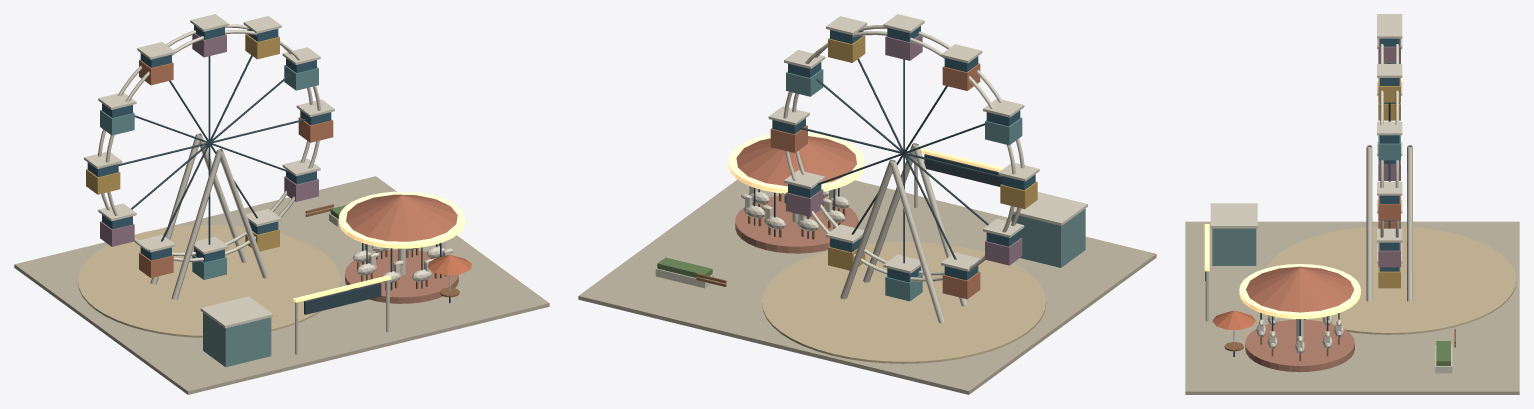
Rendered from amusement_lod.glb.
The picture shows the model from 3 angles, left to right: view 1: azimuth 30°, elevation 25°; view 2: azimuth 150°, elevation 25°; view 3: azimuth 270°, elevation 25°; orthographic projection. The views are drawn at different scales.
Parts seen in each view (by area): view 1: amusement_Site_Paving, amusement_Wheel_Plaza, amusement_Carousel_Canopy, amusement_Carousel_Base, amusement_Building_Volume, amusement_Carousel_Fascia, amusement_Wheel_Rim.001, amusement_Roof_Coping, amusement_Sign_Backplate, amusement_Wheel_A_Frame.002, amusement_Wheel_Rim, amusement_Wheel_A_Frame.003 (+16 smaller); view 2: amusement_Site_Paving, amusement_Wheel_Plaza, amusement_Carousel_Canopy, amusement_Carousel_Base, amusement_Building_Volume, amusement_Carousel_Fascia, amusement_Wheel_Rim, amusement_Roof_Coping, amusement_Wheel_A_Frame, amusement_Wheel_Rim.001, amusement_Sign_Backplate, amusement_Wheel_A_Frame.001 (+18 smaller); view 3: amusement_Site_Paving, amusement_Wheel_Plaza, amusement_Carousel_Base, amusement_Carousel_Canopy, amusement_Building_Volume, amusement_Carousel_Fascia, amusement_Roof_Coping, amusement_Wheel_A_Frame.003, amusement_Wheel_A_Frame.001, amusement_Cafe_Umbrella, amusement_Gondola_Body.001, amusement_Gondola_Body.011 (+12 smaller).
Part boxes in pixels (x1,y1,x2,y2): amusement_Site_Paving: [14, 176, 549, 394]; amusement_Wheel_Plaza: [78, 225, 340, 337]; amusement_Carousel_Canopy: [346, 194, 457, 241]; amusement_Carousel_Base: [345, 249, 458, 303]; amusement_Building_Volume: [203, 312, 271, 367]; amusement_Carousel_Fascia: [339, 191, 464, 248]; amusement_Wheel_Rim.001: [105, 30, 321, 261]; amusement_Roof_Coping: [200, 296, 273, 328]; amusement_Sign_Backplate: [304, 283, 381, 314]; amusement_Wheel_A_Frame.002: [171, 149, 221, 300]; amusement_Wheel_Rim: [98, 24, 313, 256]; amusement_Wheel_A_Frame.003: [218, 149, 268, 278]; amusement_Site_Paving: [578, 179, 1156, 394]; amusement_Wheel_Plaza: [762, 241, 1046, 363]; amusement_Carousel_Canopy: [736, 136, 856, 186]; amusement_Carousel_Base: [735, 195, 858, 253]; amusement_Building_Volume: [1011, 209, 1085, 267]; amusement_Carousel_Fascia: [728, 132, 864, 193]; amusement_Wheel_Rim: [783, 31, 1016, 281]; amusement_Roof_Coping: [1013, 192, 1087, 225]; amusement_Wheel_A_Frame: [890, 160, 944, 323]; amusement_Wheel_Rim.001: [792, 25, 1024, 275]; amusement_Sign_Backplate: [924, 154, 1002, 186]; amusement_Wheel_A_Frame.001: [840, 159, 894, 299]; amusement_Site_Paving: [1185, 221, 1519, 394]; amusement_Wheel_Plaza: [1266, 226, 1516, 334]; amusement_Carousel_Base: [1245, 320, 1354, 372]; amusement_Carousel_Canopy: [1246, 266, 1354, 312]; amusement_Building_Volume: [1212, 228, 1256, 265]; amusement_Carousel_Fascia: [1239, 264, 1360, 319]; amusement_Roof_Coping: [1210, 203, 1257, 228]; amusement_Wheel_A_Frame.003: [1366, 147, 1372, 301]; amusement_Wheel_A_Frame.001: [1407, 147, 1412, 301]; amusement_Cafe_Umbrella: [1212, 310, 1255, 329]; amusement_Gondola_Body.001: [1378, 135, 1400, 160]; amusement_Gondola_Body.011: [1378, 242, 1400, 267].
Bounding box in the file's own units: 23.8 × 16.62 × 19.8.
